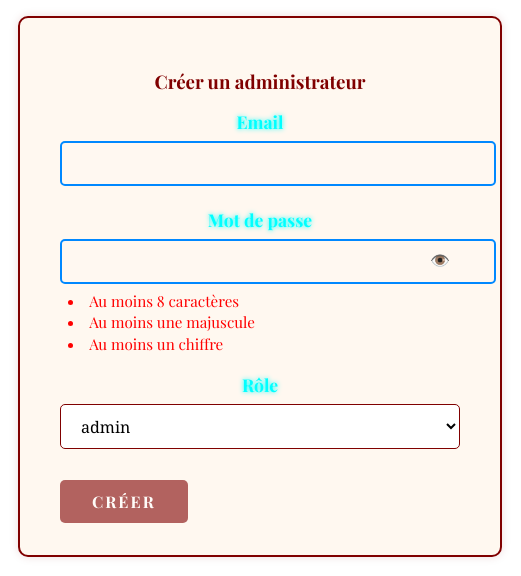
AdminCreationForm › shows and hides email error as user types
Type "bad" into the field with test id "admin-email" at (278, 163), box [60, 141, 496, 186]
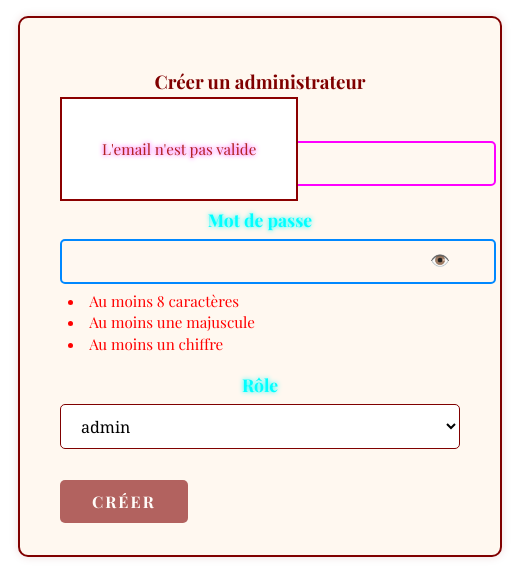
Now the text with test id "admin-email-error" reads "L'email n'est pas valide", box [102, 139, 256, 159]
Replace the text in the field with test id "admin-email" with "admin@example.com" at (278, 163), box [60, 141, 496, 186]
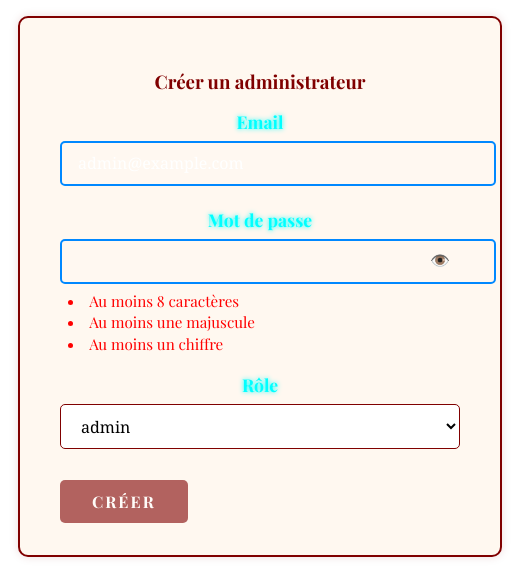
Now the text with test id "admin-email-error" is gone
